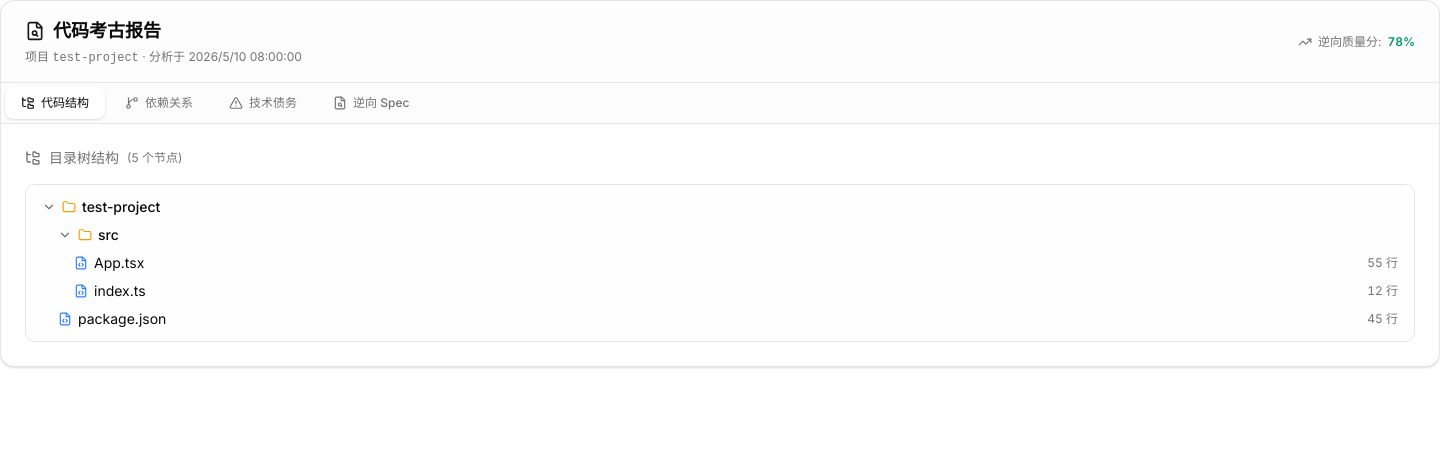
Test: ArchaeologyReport › shows reverse spec with Meta-Spec tabs
Click the button "逆向 Spec" at (371, 103), box [317,87,425,119]
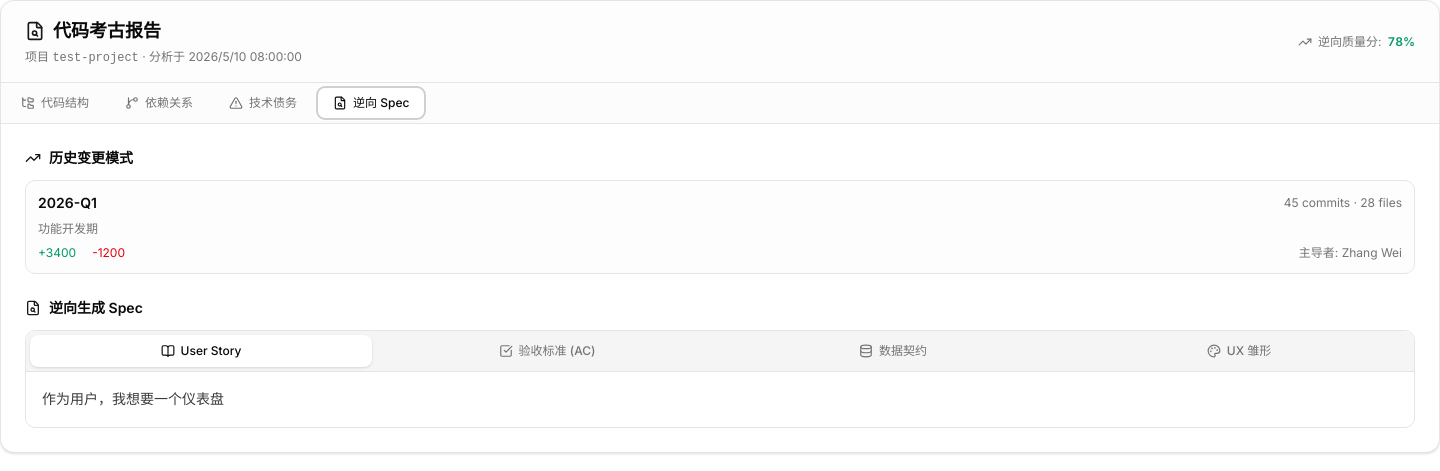
Now the heading "历史变更模式" is shown, box [25,149,133,166]
Now the button "User Story" is shown, box [30,335,372,367]
Now the button "验收标准 (AC)" is shown, box [376,335,718,367]
